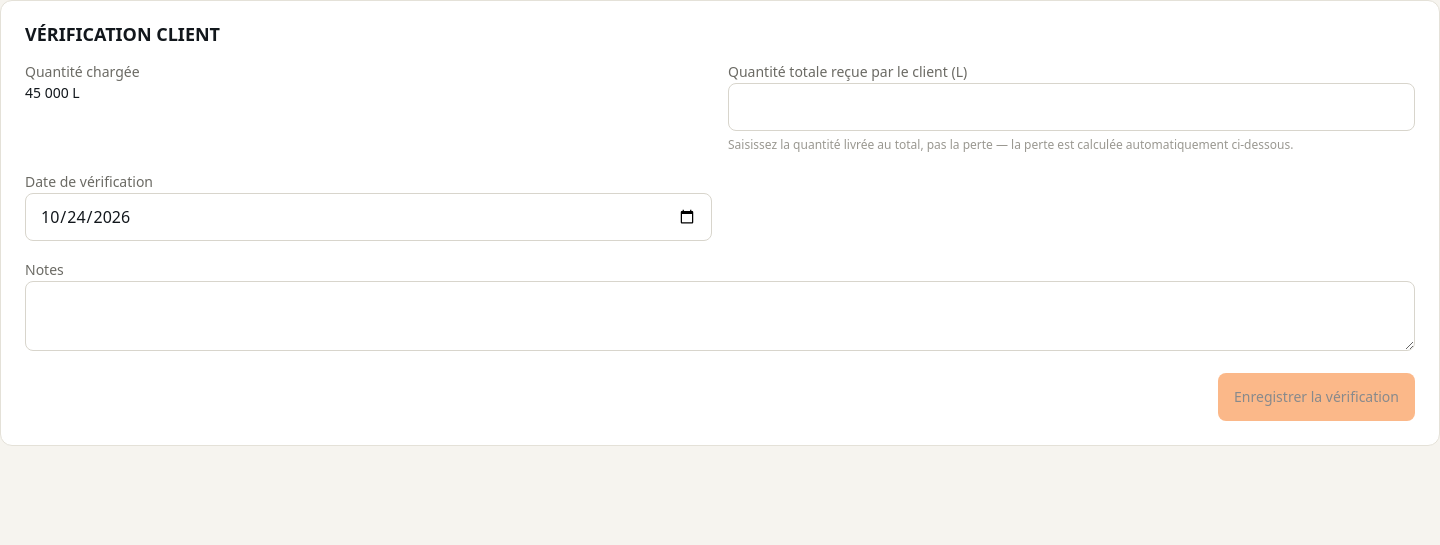
ClientVerificationForm › shows the loaded quantity read-only and computes company-absorbed vs transporter-chargeable loss client-side
Expected: the text "45 000 L" is shown, [25, 83, 80, 102]
Type "44850" into the number field with test id "received-quantity" at (1072, 107), box [728, 83, 1415, 131]
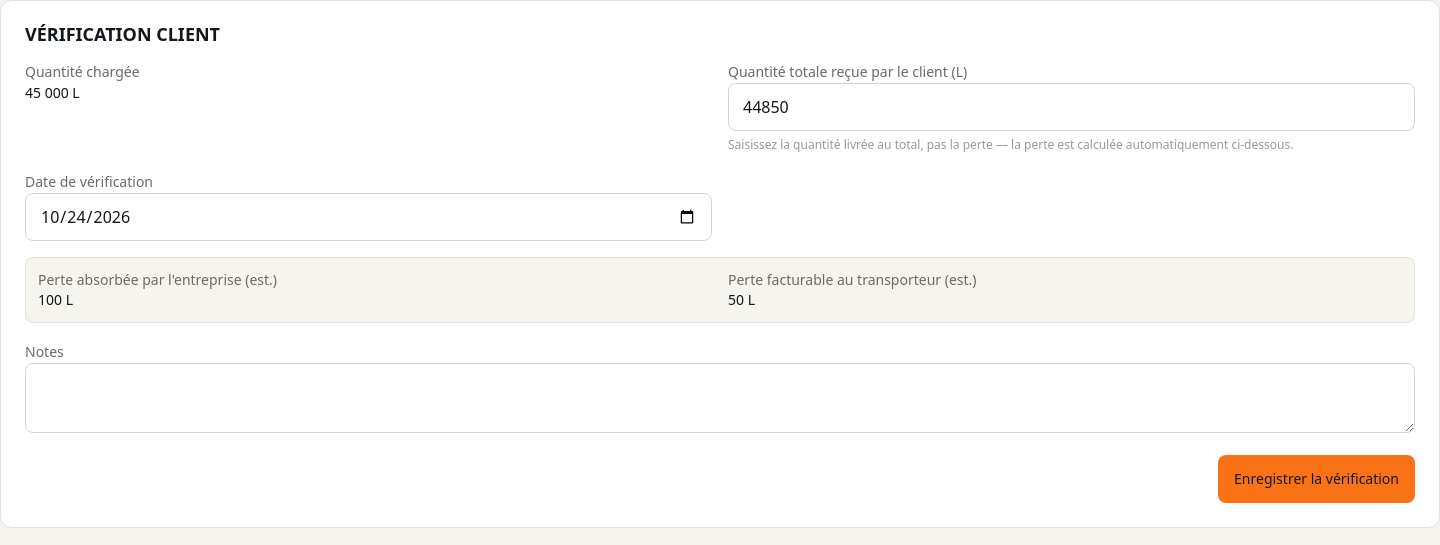
Expected: the text "100" is shown, [38, 290, 73, 309]
Expected: the text "50" is shown, [728, 290, 755, 309]
